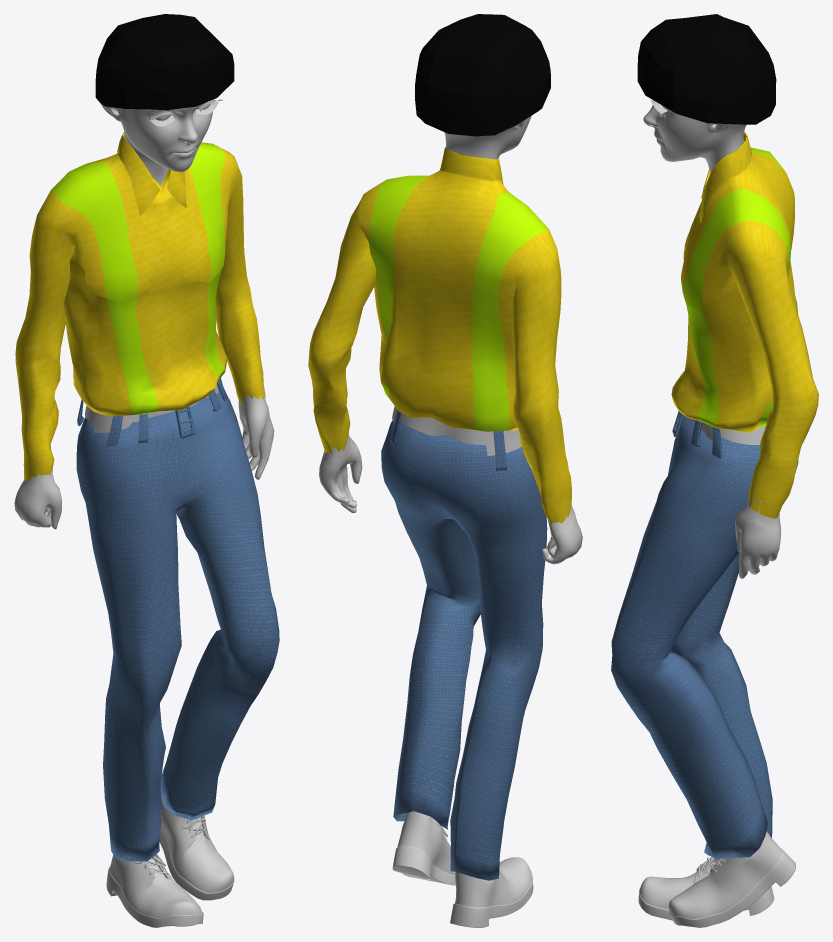
The model's file is Monta cargas.fbx.
3 renders of one model, left to right at view 1: azimuth 30°, elevation 25°; view 2: azimuth 150°, elevation 25°; view 3: azimuth 270°, elevation 25°, orthographic.
Parts seen in each view (by area): view 1: Bottoms, Tops, Hats2, Shoes, Body, Gloves; view 2: Tops, Bottoms, Hats2, Shoes, Body, Gloves; view 3: Bottoms, Tops, Hats2, Shoes, Body, Gloves.
Part boxes in pixels (left/top/right/bottom): Bottoms: left=76, top=378, right=279, bottom=861; Tops: left=15, top=132, right=265, bottom=480; Hats2: left=95, top=14, right=234, bottom=110; Shoes: left=106, top=797, right=234, bottom=927; Body: left=85, top=99, right=218, bottom=432; Gloves: left=14, top=385, right=274, bottom=529; Tops: left=308, top=147, right=571, bottom=523; Bottoms: left=381, top=410, right=547, bottom=880; Hats2: left=415, top=14, right=550, bottom=136; Shoes: left=392, top=811, right=533, bottom=927; Body: left=392, top=115, right=531, bottom=826; Gloves: left=319, top=432, right=582, bottom=564; Bottoms: left=611, top=411, right=798, bottom=858; Tops: left=671, top=131, right=818, bottom=518; Hats2: left=637, top=14, right=776, bottom=124; Shoes: left=638, top=831, right=795, bottom=927; Body: left=643, top=105, right=765, bottom=444; Gloves: left=734, top=497, right=780, bottom=578.
Bounding box in the file's own units: 49.17 × 165 × 34.84.
